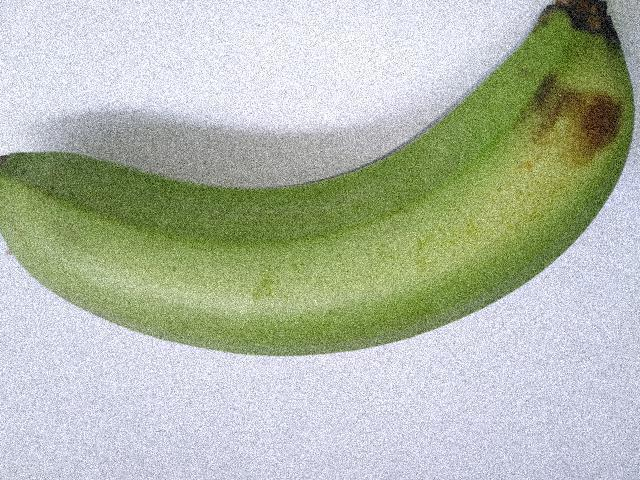freshunripe: (0, 0, 639, 370)
